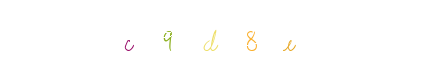8: (179, 0, 259, 80)
9: (128, 0, 208, 80)
C: (88, 0, 168, 80)
D: (177, 0, 257, 80)
E: (218, 0, 298, 80)
